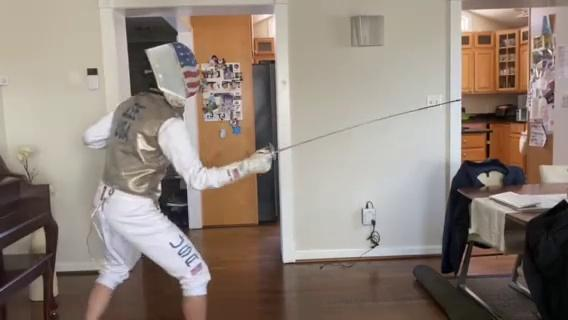blade-guard: (264, 141, 280, 161)
blade-tip: (411, 98, 462, 112)
fencing-blade: (263, 97, 464, 164)
